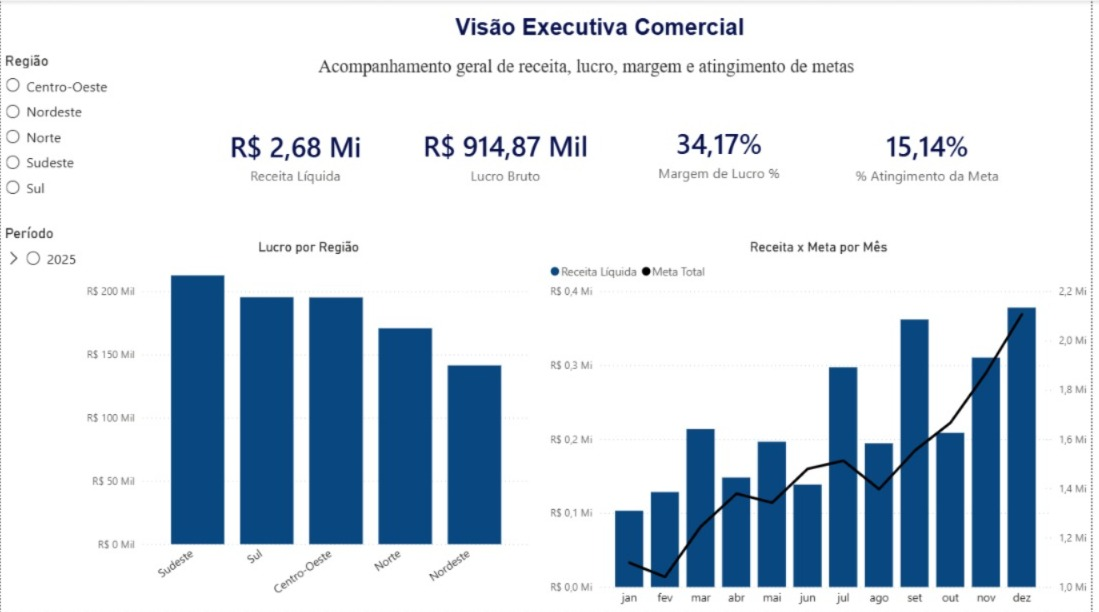

The page's visual inventory and layout, read from the dashboard file:
{"tool":"powerbi","page":{"name":"Visão Executiva","canvas":[1280,720],"ordinal":0},"visuals":[{"type":"textbox","box":[462.2,11,481.8,59.9],"z":0},{"type":"textbox","box":[359.5,59.9,655.4,40.4],"z":1000},{"type":"cardVisual","fields":{"Data":["tbl_Dim_Calendario.Receita Líquida"]},"box":[229.9,130.8,232.3,103.9],"z":2000},{"type":"cardVisual","fields":{"Data":["tbl_Dim_Calendario.Lucro Bruto"]},"box":[452.4,124.7,280,114.9],"z":3000},{"type":"cardVisual","fields":{"Data":["tbl_Dim_Calendario.Margem de Lucro %"]},"box":[703.1,118.6,280,121.1],"z":4000},{"type":"cardVisual","fields":{"Data":["tbl_Dim_Calendario.% Atingimento da Meta"]},"box":[944,124.7,287.4,114.9],"z":5000},{"type":"lineClusteredColumnComboChart","title":"Receita x Meta  por Mês","fields":{"Y":["tbl_Dim_Calendario.Receita Líquida"],"Y2":["tbl_Dim_Calendario.Meta Total"],"Category":["tbl_Dim_Calendario.Mes"]},"box":[639.5,280,640.8,440.2],"z":6000},{"type":"listSlicer","title":"Período","fields":{"Values":["tbl_Dim_Calendario.Ano_Mes.Variation.Hierarquia de datas.Ano","tbl_Dim_Calendario.Ano_Mes.Variation.Hierarquia de datas.Mês"]},"box":[0,262.9,156.5,280],"z":7000},{"type":"listSlicer","fields":{"Values":["tbl_Dim_Regioes.Regiao"]},"box":[0,59.9,156.5,203],"z":8000},{"type":"columnChart","title":"Lucro por Região","fields":{"Y":["tbl_Dim_Calendario.Lucro Bruto"],"Category":["tbl_Dim_Regioes.Região"]},"box":[95.4,280,531.9,440.2],"z":9000}]}

Visuals, with their boxes in screenshot pixels (x1, y1, x2, y2), scaled from the page's 1280x720 canvas onto the 1099x612 screenshot:
textbox: x1=397, y1=9, x2=811, y2=60
textbox: x1=309, y1=51, x2=871, y2=85
cardVisual - tbl_Dim_Calendario.Receita Líquida: x1=197, y1=111, x2=397, y2=199
cardVisual - tbl_Dim_Calendario.Lucro Bruto: x1=388, y1=106, x2=629, y2=204
cardVisual - tbl_Dim_Calendario.Margem de Lucro %: x1=604, y1=101, x2=844, y2=204
cardVisual - tbl_Dim_Calendario.% Atingimento da Meta: x1=811, y1=106, x2=1057, y2=204
"Receita x Meta  por Mês" lineClusteredColumnComboChart: x1=549, y1=238, x2=1098, y2=611
"Período" listSlicer: x1=0, y1=223, x2=134, y2=461
listSlicer - tbl_Dim_Regioes.Regiao: x1=0, y1=51, x2=134, y2=223
"Lucro por Região" columnChart: x1=82, y1=238, x2=539, y2=611
